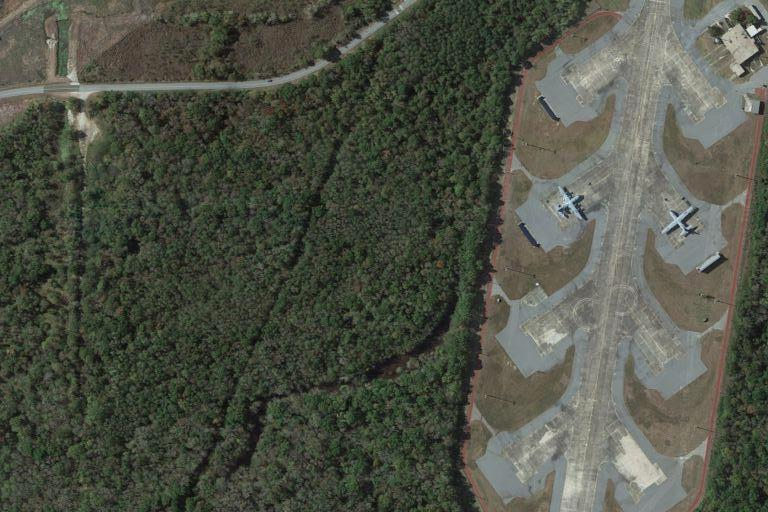C-130: (660, 203, 700, 241), (550, 184, 588, 224)
